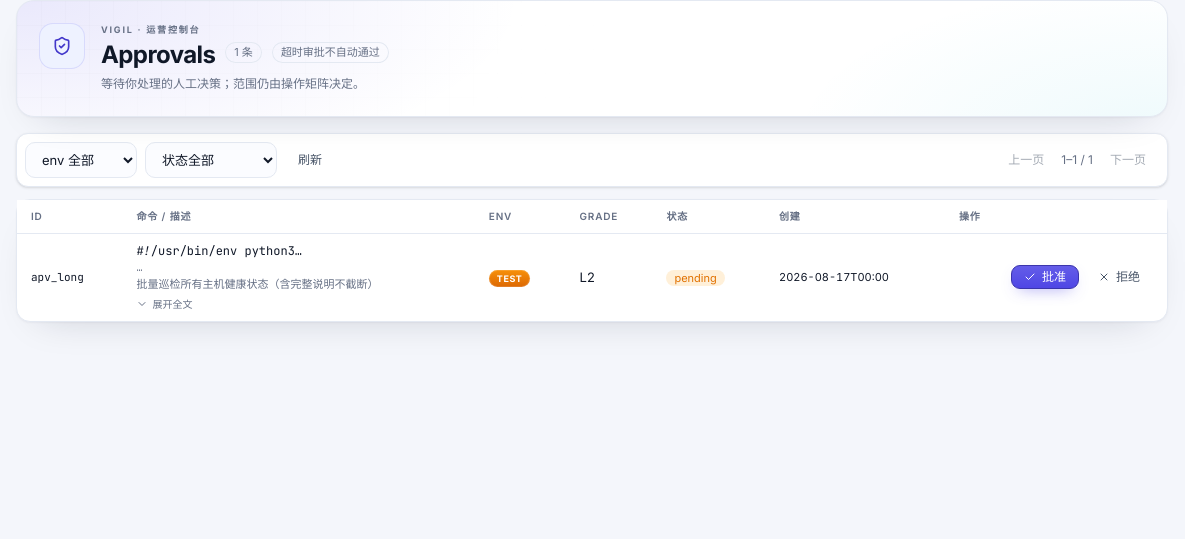
Test: 批四十一 §6 审批记录完整详情 › 长命令默认折叠，展开后 DOM 内完整多行文本不截断（保留缩进）
Expected: the text "for host in hosts:" is not shown
Click the button "展开全文" at (164, 304), box [136,297,192,312]
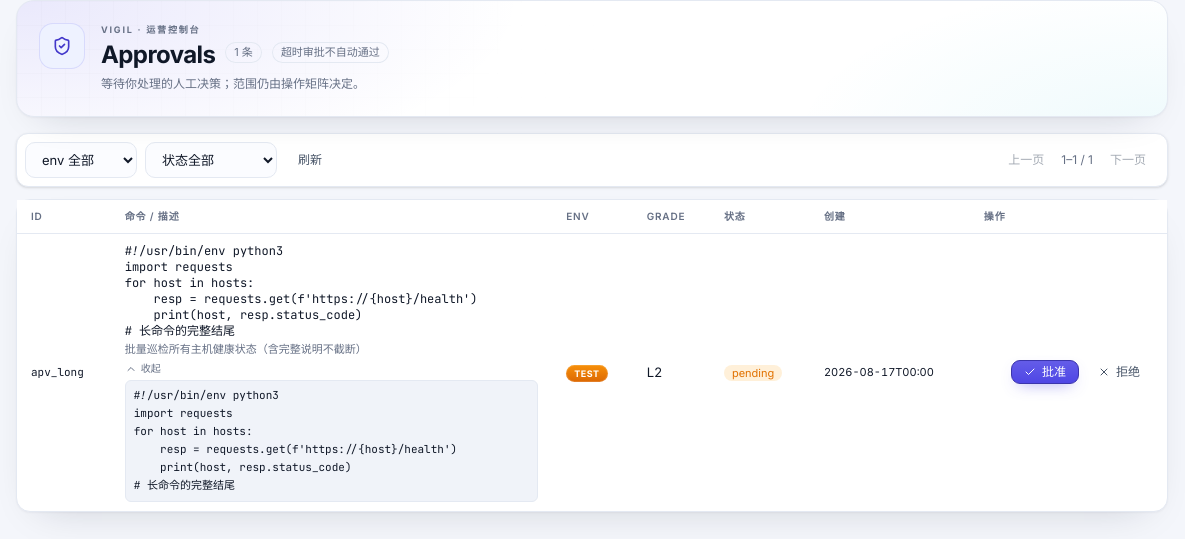
Expected: the text "批量巡检所有主机健康状态" is shown, [125,342,367,356]
Expected: the text "resp = requests.get" is shown, [125,243,478,339]
